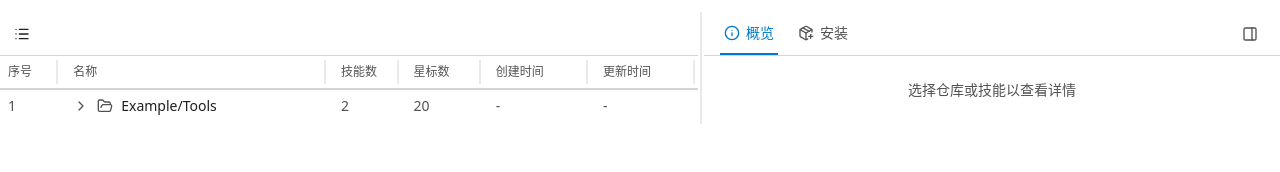
it: tree browser workspace › supports hiding and restoring the preview and keyboard resizing
Press ArrowLeft in the element named "调整列表与预览宽度", box [698, 12, 704, 124]
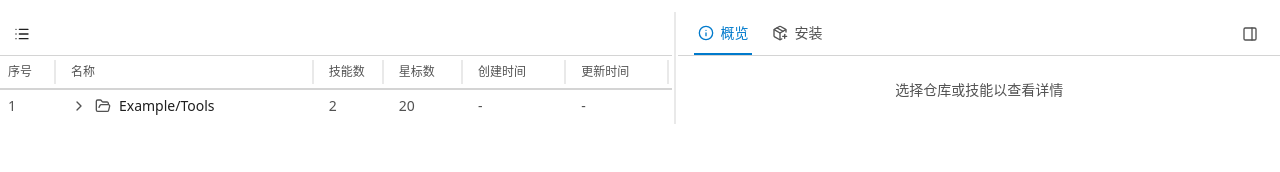
Check: the element named "调整列表与预览宽度" has attribute aria-valuenow="47", box [672, 12, 678, 124]
Click the button named "收起预览".
click(1250, 34)  # box [1236, 20, 1264, 48]
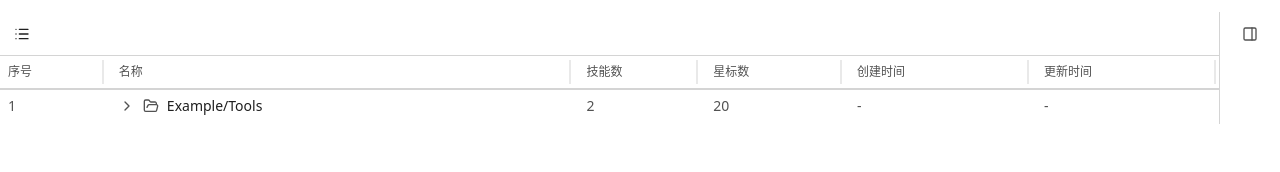
Click the button named "显示预览".
click(1250, 34)  # box [1236, 20, 1264, 48]
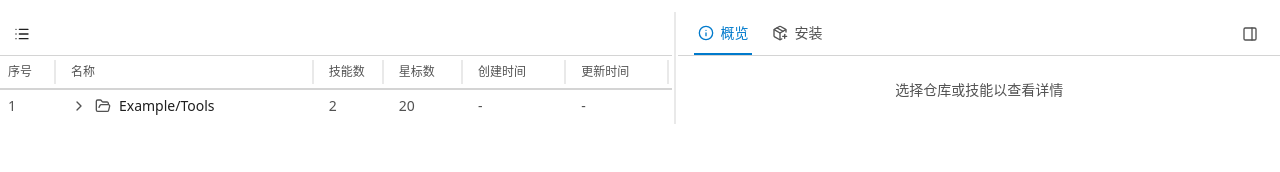
Check: the element showing "概览 安装" is shown, box [678, 12, 1279, 56]
